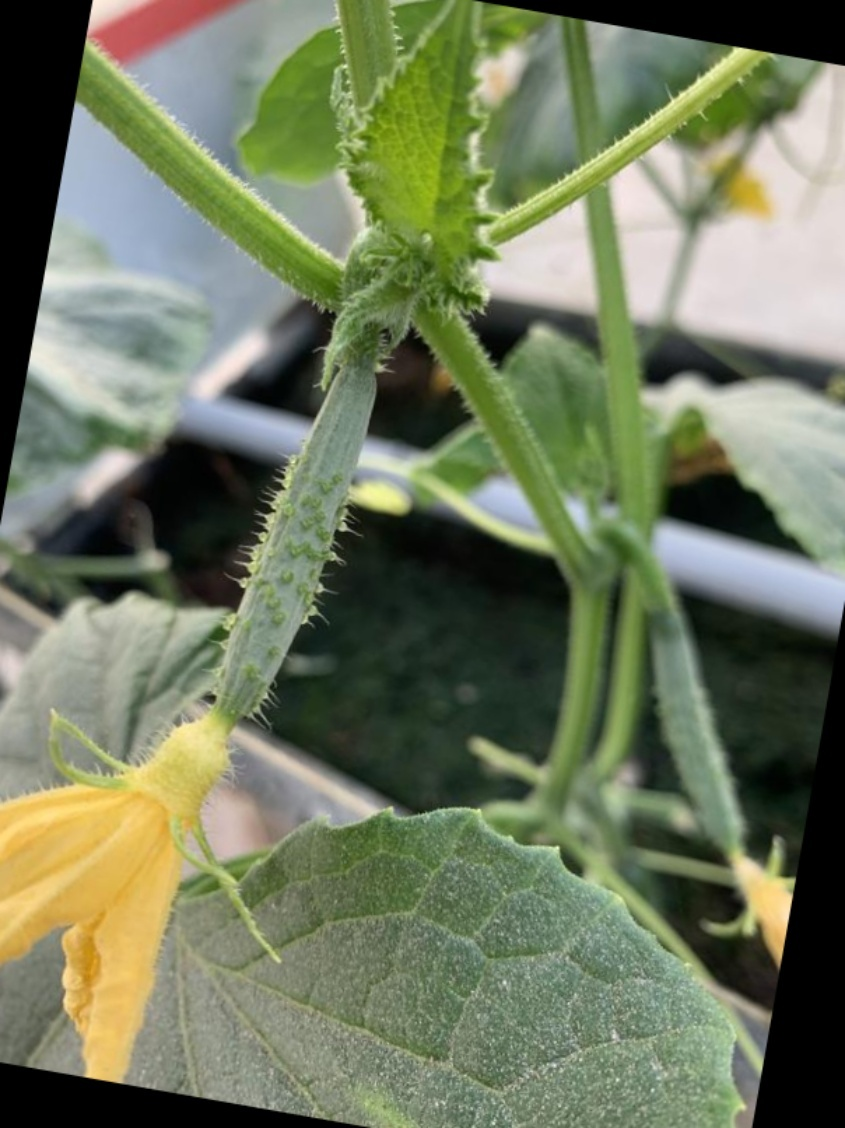bear: (0, 281, 432, 1009)
